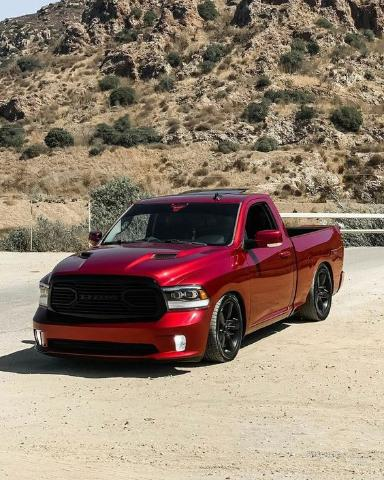pickup-truck: (31, 189, 346, 364)
